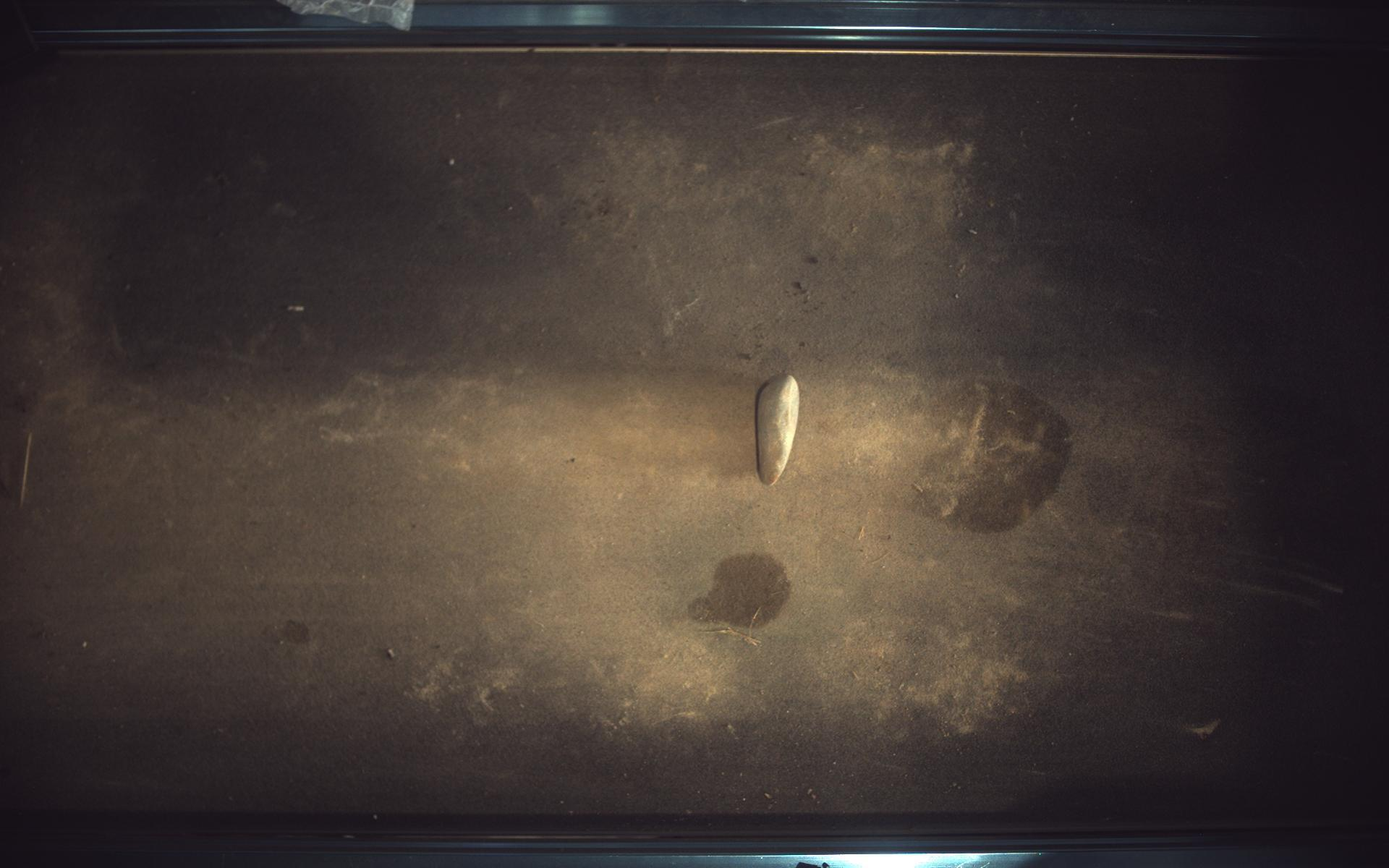stone: (758, 375, 801, 485)
